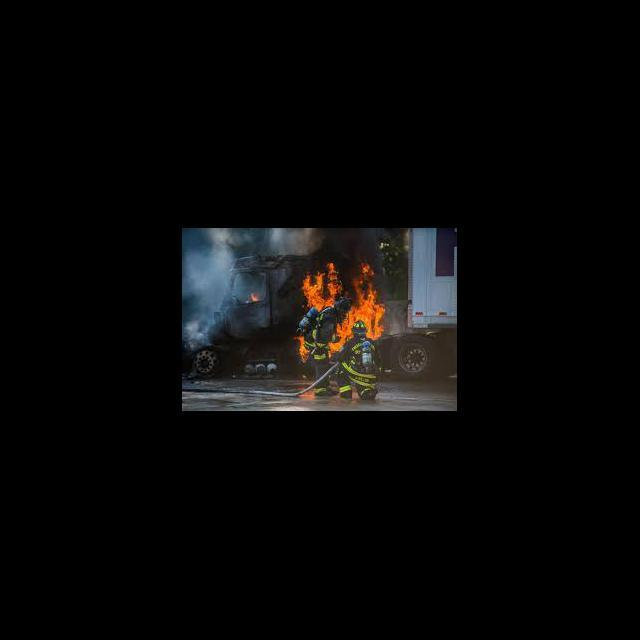Fire: (350, 261, 384, 342), (299, 264, 343, 311), (324, 313, 348, 359), (293, 338, 310, 362), (248, 292, 260, 304)
Smoke: (185, 228, 246, 356), (246, 228, 322, 256)
